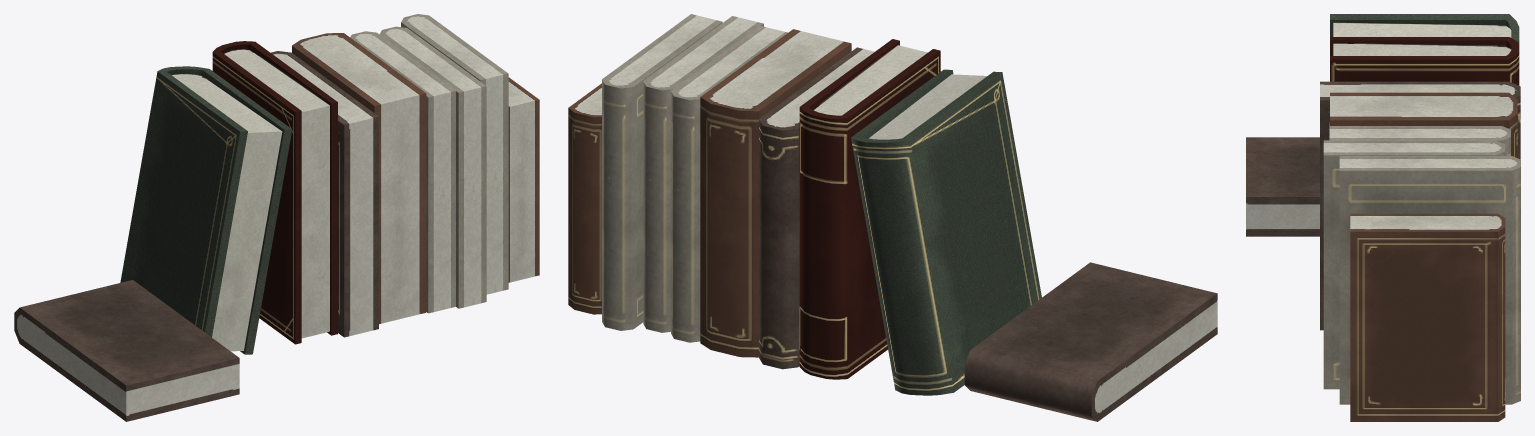
The model's file is BooksGroup05.fbx.
The picture shows the model from 3 angles, left to right: view 1: azimuth 30°, elevation 25°; view 2: azimuth 150°, elevation 25°; view 3: azimuth 270°, elevation 25°; orthographic projection. The views are drawn at different scales.
Parts seen in each view (by area): view 1: prop_books_01_inst_001; view 2: prop_books_01_inst_001; view 3: prop_books_01_inst_001.
Part boxes in pixels (x1,y1,x2,y2): prop_books_01_inst_001: [14, 14, 539, 421]; prop_books_01_inst_001: [568, 14, 1217, 421]; prop_books_01_inst_001: [1246, 14, 1520, 421].
Bounding box in the file's own units: 92.11 × 44.48 × 43.88.
Materials: 1 (1 with a texture image).
